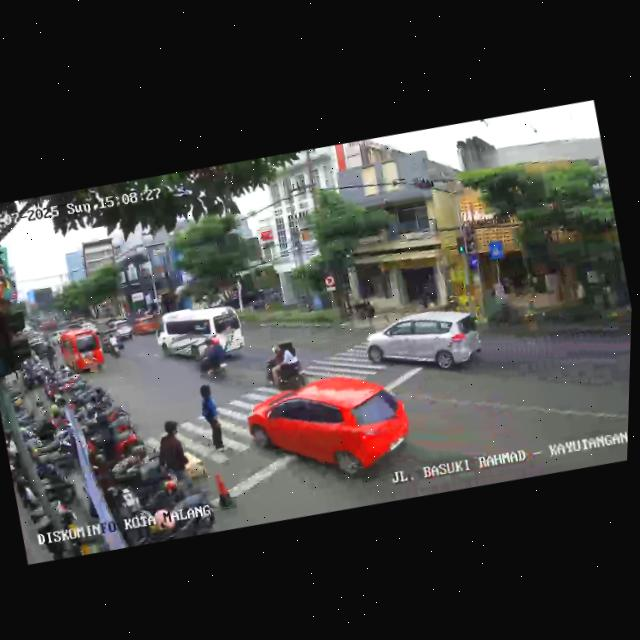car: (243, 365, 421, 500), (361, 296, 489, 390), (153, 295, 250, 370), (51, 322, 108, 381), (108, 316, 138, 343), (132, 313, 160, 340)
motorcycle: (258, 335, 312, 394), (193, 333, 232, 381), (101, 327, 125, 360)
person: (190, 379, 230, 463), (152, 418, 194, 495)
